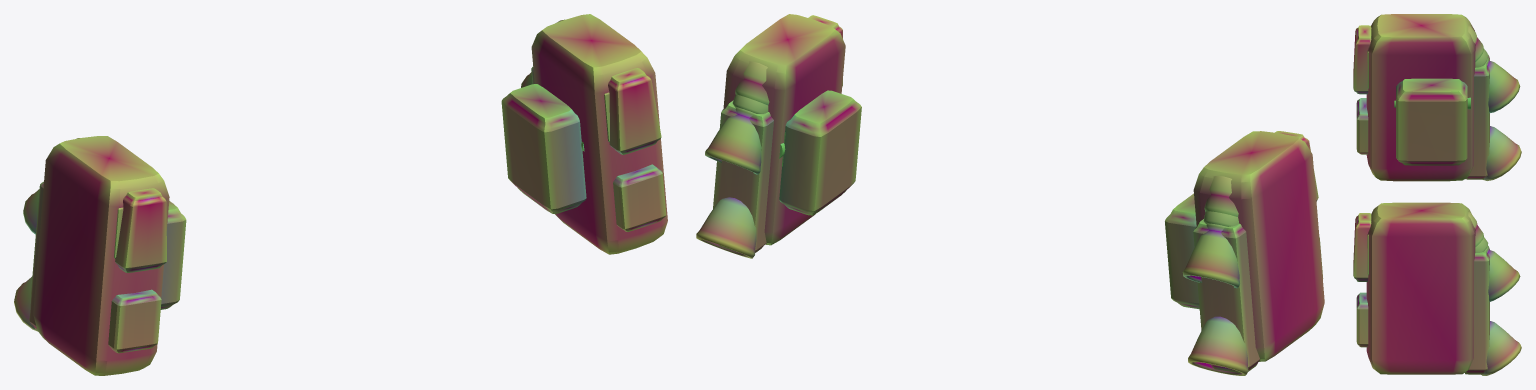
The model's file is llm_gen_leg_thrusters_075_bacb99.glb.
The picture shows the model from 3 angles, left to right: view 1: azimuth 30°, elevation 25°; view 2: azimuth 150°, elevation 25°; view 3: azimuth 270°, elevation 25°; orthographic projection. The views are drawn at different scales.
Parts seen in each view (by area): view 1: outer_shin_armor_0_cobalt_anodized_l, outer_shin_armor_0_cobalt_anodized_r, adapter_calf_clamp_r, knee_guard_blade_2_gold_l, knee_guard_blade_2_gold_r, lower_shin_bumper_4_titanium_silver_l, lower_shin_bumper_4_titanium_silver_r, adapter_calf_clamp_l, rear_thruster_manifold_dark_5_adapter_dark_l, rear_surge_bell_bot_7_vernier_bell_vernier_l; view 2: outer_shin_armor_0_cobalt_anodized_l, outer_shin_armor_0_cobalt_anodized_r, adapter_calf_clamp_r, rear_thruster_manifold_dark_5_adapter_dark_l, rear_thruster_manifold_dark_5_adapter_dark_r, adapter_calf_clamp_l, rear_surge_bell_bot_7_vernier_bell_vernier_l, rear_surge_bell_bot_7_vernier_bell_vernier_r, rear_surge_bell_top_6_vernier_bell_vernier_r, rear_surge_bell_top_6_vernier_bell_vernier_l, rear_surge_bell_top_6_vernier_bell_gimbal_collar_dark_r, rear_surge_bell_top_6_vernier_bell_gimbal_collar_dark_l; view 3: outer_shin_armor_0_cobalt_anodized_r, outer_shin_armor_0_cobalt_anodized_l, adapter_calf_clamp_l, rear_thruster_manifold_dark_5_adapter_dark_r, rear_thruster_manifold_dark_5_adapter_dark_l, rear_surge_bell_bot_7_vernier_bell_vernier_l, rear_surge_bell_bot_7_vernier_bell_vernier_r, rear_surge_bell_top_6_vernier_bell_vernier_l, rear_surge_bell_top_6_vernier_bell_vernier_r, knee_guard_blade_2_gold_l, knee_guard_blade_2_gold_r, lower_shin_bumper_4_titanium_silver_l (+3 smaller).
Boxes of the visible parts, box(x1,y1,x2,y2) form: outer_shin_armor_0_cobalt_anodized_l: box(33, 136, 169, 375); outer_shin_armor_0_cobalt_anodized_r: box(531, 14, 667, 254); adapter_calf_clamp_r: box(501, 84, 586, 213); knee_guard_blade_2_gold_l: box(115, 188, 166, 272); knee_guard_blade_2_gold_r: box(608, 68, 661, 154); lower_shin_bumper_4_titanium_silver_l: box(108, 289, 161, 353); lower_shin_bumper_4_titanium_silver_r: box(613, 164, 666, 231); adapter_calf_clamp_l: box(160, 201, 186, 309); rear_thruster_manifold_dark_5_adapter_dark_l: box(29, 181, 43, 331); rear_surge_bell_bot_7_vernier_bell_vernier_l: box(14, 276, 36, 330); outer_shin_armor_0_cobalt_anodized_l: box(1193, 131, 1324, 361); outer_shin_armor_0_cobalt_anodized_r: box(723, 14, 845, 245); adapter_calf_clamp_r: box(779, 90, 861, 215); rear_thruster_manifold_dark_5_adapter_dark_l: box(1193, 219, 1260, 372); rear_thruster_manifold_dark_5_adapter_dark_r: box(713, 100, 773, 252); adapter_calf_clamp_l: box(1165, 193, 1199, 309); rear_surge_bell_bot_7_vernier_bell_vernier_l: box(1188, 316, 1248, 375); rear_surge_bell_bot_7_vernier_bell_vernier_r: box(696, 197, 756, 258); rear_surge_bell_top_6_vernier_bell_vernier_r: box(705, 106, 761, 174); rear_surge_bell_top_6_vernier_bell_vernier_l: box(1182, 223, 1239, 288); rear_surge_bell_top_6_vernier_bell_gimbal_collar_dark_r: box(735, 61, 769, 105); rear_surge_bell_top_6_vernier_bell_gimbal_collar_dark_l: box(1204, 176, 1238, 216); outer_shin_armor_0_cobalt_anodized_r: box(1366, 202, 1475, 374); outer_shin_armor_0_cobalt_anodized_l: box(1366, 14, 1475, 181); adapter_calf_clamp_l: box(1396, 78, 1467, 165); rear_thruster_manifold_dark_5_adapter_dark_r: box(1465, 247, 1489, 374); rear_thruster_manifold_dark_5_adapter_dark_l: box(1465, 54, 1489, 179); rear_surge_bell_bot_7_vernier_bell_vernier_l: box(1483, 126, 1521, 180); rear_surge_bell_bot_7_vernier_bell_vernier_r: box(1481, 321, 1521, 375); rear_surge_bell_top_6_vernier_bell_vernier_l: box(1484, 57, 1520, 113); rear_surge_bell_top_6_vernier_bell_vernier_r: box(1485, 246, 1520, 301); knee_guard_blade_2_gold_l: box(1353, 25, 1371, 94); knee_guard_blade_2_gold_r: box(1353, 213, 1371, 281); lower_shin_bumper_4_titanium_silver_l: box(1356, 98, 1368, 154).
Size of the model in its own units: 80.15 by 26.84 by 25.87.
